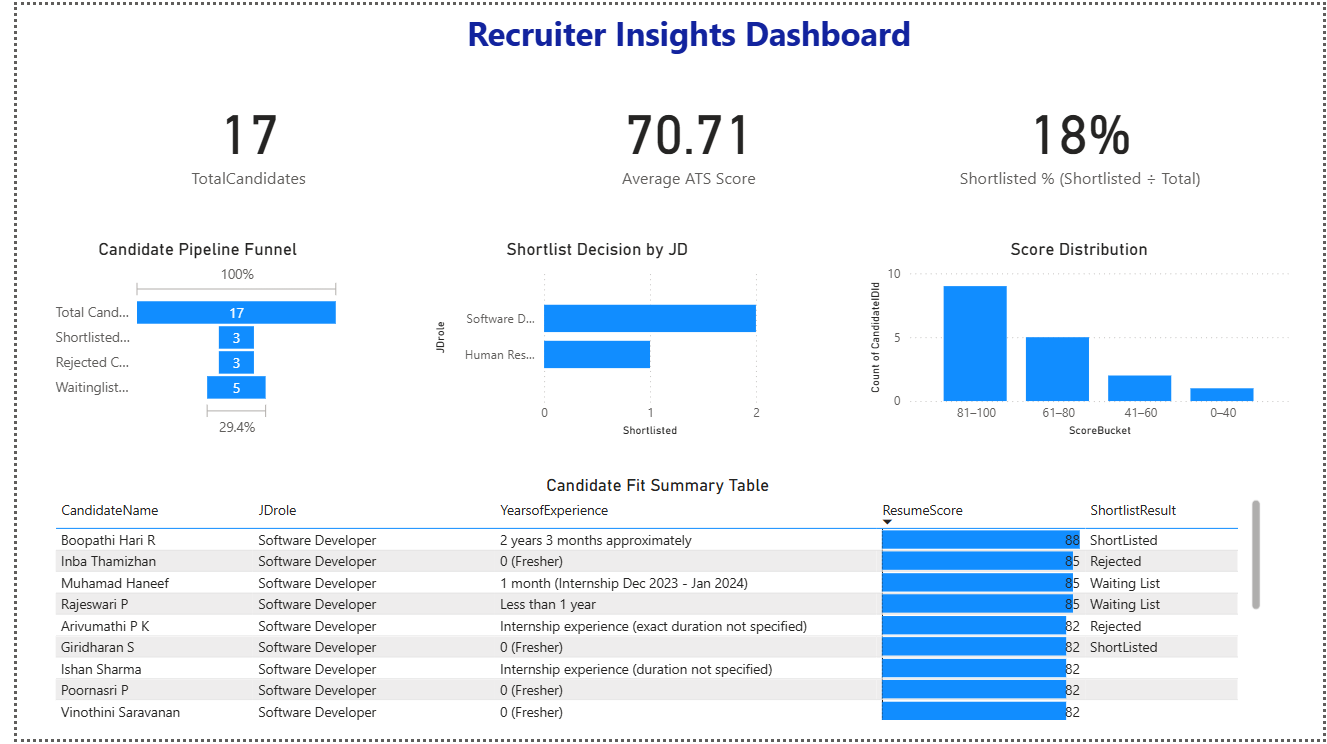

The page's visual inventory and layout, read from the dashboard file:
{"tool":"powerbi","page":{"name":"Page 1","canvas":[1280,720],"ordinal":0},"visuals":[{"type":"card","fields":{"Values":["ResumeAnalysis.TotalCandidates"]},"box":[110.5,74.2,233.2,113.6],"z":0},{"type":"card","fields":{"Values":["ResumeAnalysis.Count of ResumeScore average per Id"]},"box":[546.6,74.2,222.6,113.6],"z":1000},{"type":"card","fields":{"Values":["ResumeAnalysis.Shortlist %"]},"box":[911.6,74.2,260.4,113.6],"z":2000},{"type":"funnel","title":"Candidate Pipeline Funnel","fields":{"Y":["CountNonNull(ResumeAnalysis.CandidateIDId)","ResumeAnalysis.Shortlisted","ResumeAnalysis.Rejected","ResumeAnalysis.Waitinglist"]},"box":[32.4,229.9,289.8,197.5],"z":3000},{"type":"barChart","title":"Shortlist Decision by JD","fields":{"Y":["ResumeAnalysis.Shortlisted"],"Category":["ResumeAnalysis.JDrole"]},"box":[404.8,229.9,328.7,197.5],"z":4000},{"type":"tableEx","title":"Candidate Fit Summary Table","fields":{"Values":["ResumeAnalysis.CandidateName","ResumeAnalysis.JDrole","CandidateProfiles.YearsofExperience","ResumeAnalysis.ResumeScore","ResumeAnalysis.ShortlistResult"]},"box":[31.7,460,1191.7,245],"z":5000},{"type":"textbox","box":[121.7,0,1073.3,55],"z":6000},{"type":"columnChart","title":"Score Distribution","fields":{"Category":["ResumeAnalysis.ScoreBucket"],"Y":["CountNonNull(ResumeAnalysis.CandidateIDId)"]},"box":[830.7,229.9,421,197.5],"z":7000}]}

Visuals, with their boxes in screenshot pixels (x1, y1, x2, y2), scaled from the page's 1280x720 canvas onto the 1327x744 screenshot:
card - ResumeAnalysis.TotalCandidates: detection(115, 77, 356, 194)
card - ResumeAnalysis.Count of ResumeScore average per Id: detection(567, 77, 797, 194)
card - ResumeAnalysis.Shortlist %: detection(945, 77, 1215, 194)
"Candidate Pipeline Funnel" funnel: detection(34, 238, 334, 442)
"Shortlist Decision by JD" barChart: detection(420, 238, 760, 442)
"Candidate Fit Summary Table" tableEx: detection(33, 475, 1268, 729)
textbox: detection(126, 0, 1239, 57)
"Score Distribution" columnChart: detection(861, 238, 1298, 442)
